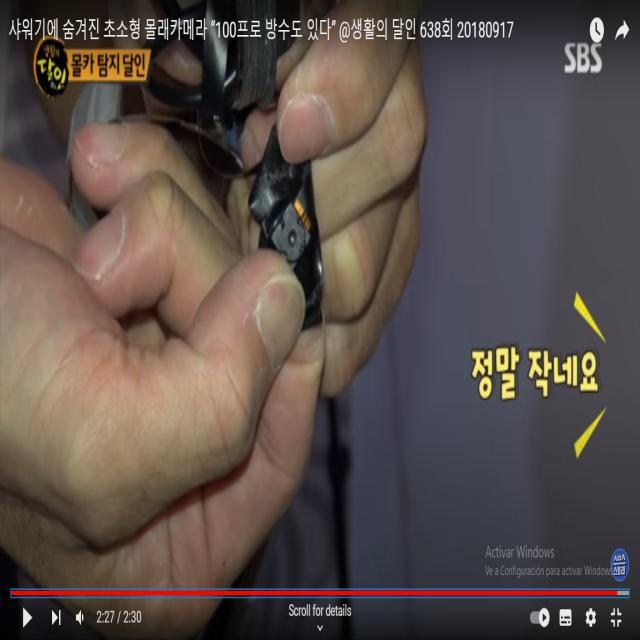hidden camera: (288, 230, 298, 250)
